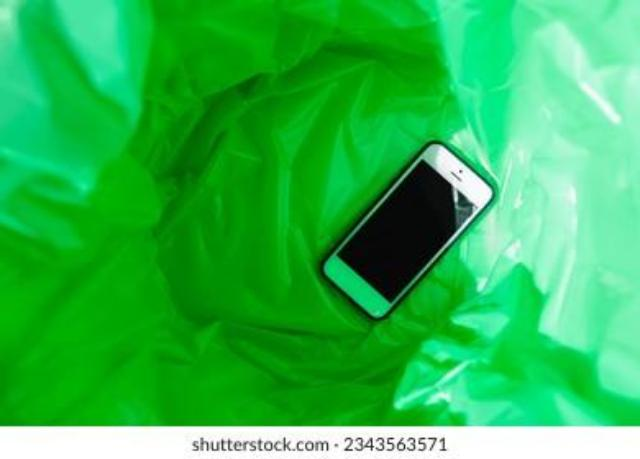E-Waste: (322, 143, 494, 319)
